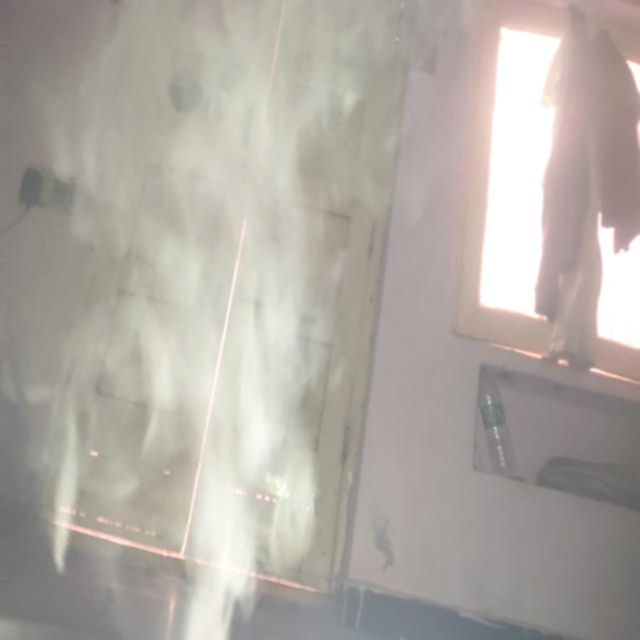smoke: (52, 157, 300, 604)
